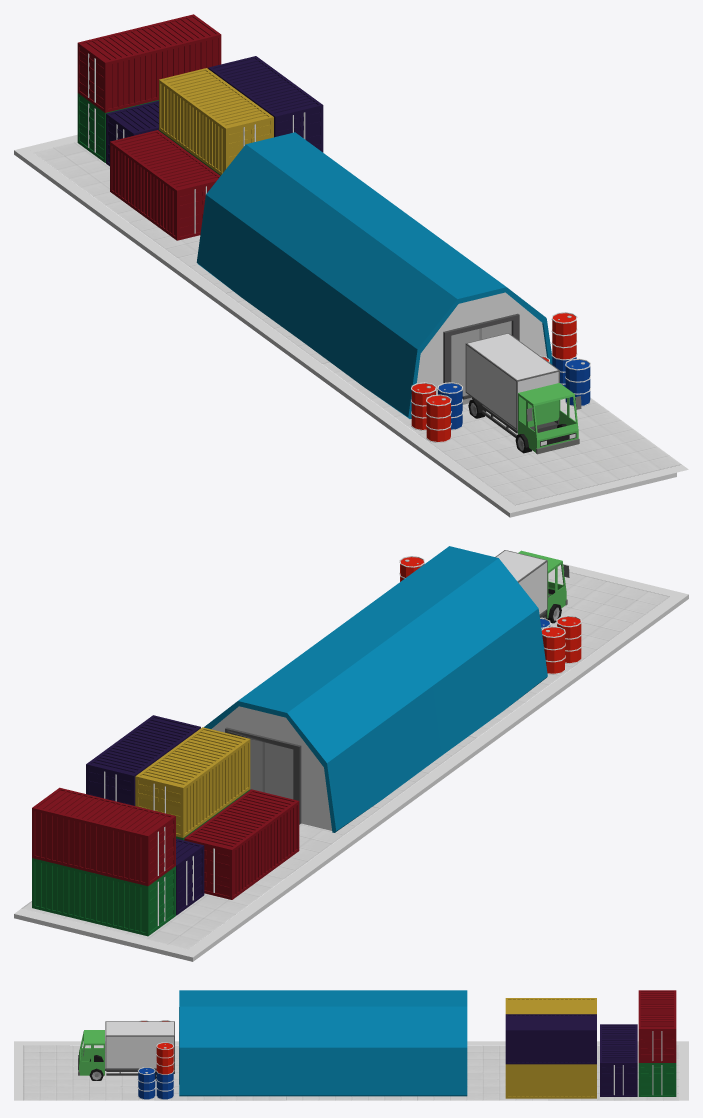
File: cannabis-facility.glb
3 renders of one model, top to bottom at view 1: azimuth 30°, elevation 25°; view 2: azimuth 150°, elevation 25°; view 3: azimuth 270°, elevation 25°, orthographic. The views are drawn at different scales.
Visible parts, largest first — view 1: Storage_Colore_0.001, Plane.158_ContornoEdifici_0.001, Container.007_Colore_0.001, Camion.001_Colore_0.001, Container_Colore_0.001, Container.002_Colore_0.001, Container.003_Colore_0.001, Plane.155_ContornoEdifici_0.001, Plane.080_Colore_0.001, Plane.076_Colore_0.001, Plane.075_Colore_0.002, Container.005_Colore_0.001 (+11 smaller); view 2: Storage_Colore_0.001, Container.007_Colore_0.001, Container.002_Colore_0.001, Container_Colore_0.001, Container.006_Colore_0.001, Plane.158_ContornoEdifici_0.001, Container.003_Colore_0.001, Plane.155_ContornoEdifici_0.001, Camion.001_Colore_0.001, Plane.064_Colore_0.001, Container.005_Colore_0.001, Plane.156_ContornoEdifici_0.001 (+10 smaller); view 3: Storage_Colore_0.001, Plane.158_ContornoEdifici_0.001, Container.003_Colore_0.001, Camion.001_Colore_0.001, Container.004_Colore_0.001, Container.007_Colore_0.001, Container.005_Colore_0.001, Plane.156_ContornoEdifici_0.001, Container.002_Colore_0.001, Container.006_Colore_0.001, Plane.155_ContornoEdifici_0.001, Plane.157_ContornoEdifici_0.001 (+8 smaller).
Boxes of the visible parts, box(x1,y1,x2,y2) form: Storage_Colore_0.001: box(196, 132, 552, 418); Plane.158_ContornoEdifici_0.001: box(419, 397, 681, 505); Container.007_Colore_0.001: box(77, 14, 221, 112); Camion.001_Colore_0.001: box(462, 333, 581, 454); Container_Colore_0.001: box(110, 130, 220, 240); Container.002_Colore_0.001: box(159, 68, 273, 174); Container.003_Colore_0.001: box(208, 56, 323, 152); Plane.155_ContornoEdifici_0.001: box(33, 141, 146, 222); Plane.080_Colore_0.001: box(515, 464, 688, 514); Plane.076_Colore_0.001: box(406, 435, 521, 517); Plane.075_Colore_0.002: box(14, 147, 128, 229); Container.005_Colore_0.001: box(106, 100, 158, 166); Storage_Colore_0.001: box(204, 546, 547, 832); Container.007_Colore_0.001: box(32, 787, 175, 886); Container.002_Colore_0.001: box(135, 727, 250, 837); Container_Colore_0.001: box(184, 789, 299, 899); Container.006_Colore_0.001: box(32, 858, 175, 936); Plane.158_ContornoEdifici_0.001: box(541, 569, 669, 666); Container.003_Colore_0.001: box(86, 715, 200, 805); Plane.155_ContornoEdifici_0.001: box(21, 875, 283, 949); Camion.001_Colore_0.001: box(495, 550, 569, 618); Plane.064_Colore_0.001: box(14, 909, 187, 958); Container.005_Colore_0.001: box(176, 838, 204, 915); Plane.156_ContornoEdifici_0.001: box(267, 806, 380, 878); Storage_Colore_0.001: box(179, 990, 467, 1096); Plane.158_ContornoEdifici_0.001: box(23, 1045, 154, 1100); Container.003_Colore_0.001: box(505, 1014, 596, 1064); Camion.001_Colore_0.001: box(78, 1021, 174, 1075); Container.004_Colore_0.001: box(505, 1064, 596, 1098); Container.007_Colore_0.001: box(638, 990, 676, 1062); Container.005_Colore_0.001: box(600, 1024, 637, 1096); Plane.156_ContornoEdifici_0.001: box(417, 1045, 548, 1100); Container.002_Colore_0.001: box(505, 998, 596, 1014); Container.006_Colore_0.001: box(638, 1063, 676, 1096); Plane.155_ContornoEdifici_0.001: box(548, 1045, 679, 1100); Plane.157_ContornoEdifici_0.001: box(154, 1045, 285, 1100).
Size of the model in its own units: 10.73 by 6.66 by 51.42.
Materials: 2 (2 with a texture image).
